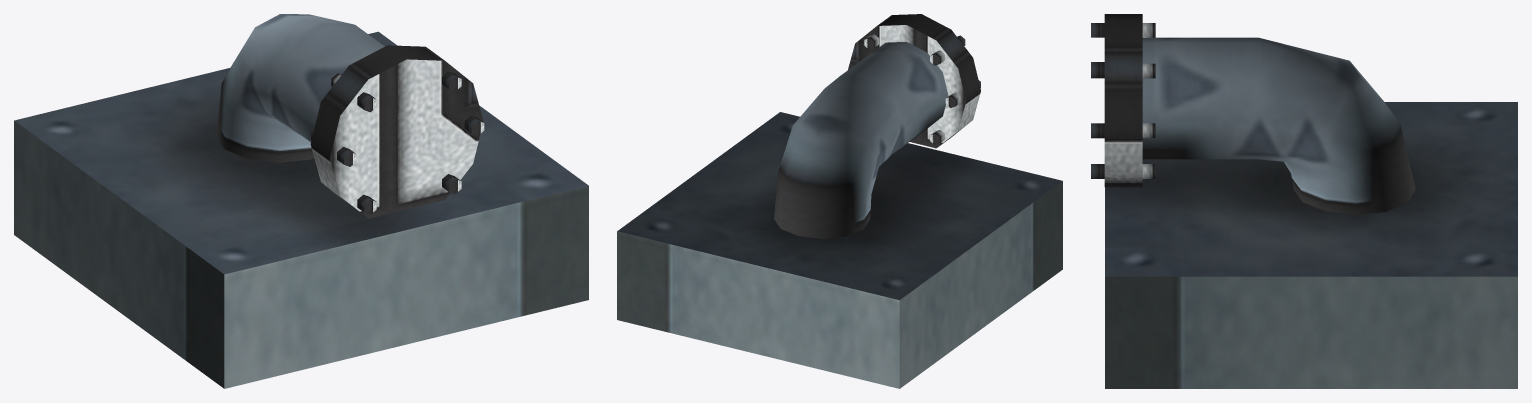
File: ss_tile_pipefloor_s.obj
3 views of the same model, side by side, from view 1: azimuth 30°, elevation 25°; view 2: azimuth 150°, elevation 25°; view 3: azimuth 270°, elevation 25° (orthographic). The views are drawn at different scales.
Visible parts, largest first — view 1: obj1; view 2: obj1; view 3: obj1.
Boxes of the visible parts, left/top/right/bottom form: obj1: left=14, top=14, right=588, bottom=388; obj1: left=617, top=14, right=1062, bottom=388; obj1: left=1091, top=14, right=1517, bottom=388.
Size of the model in its own units: 1 by 0.7476 by 1.03.
